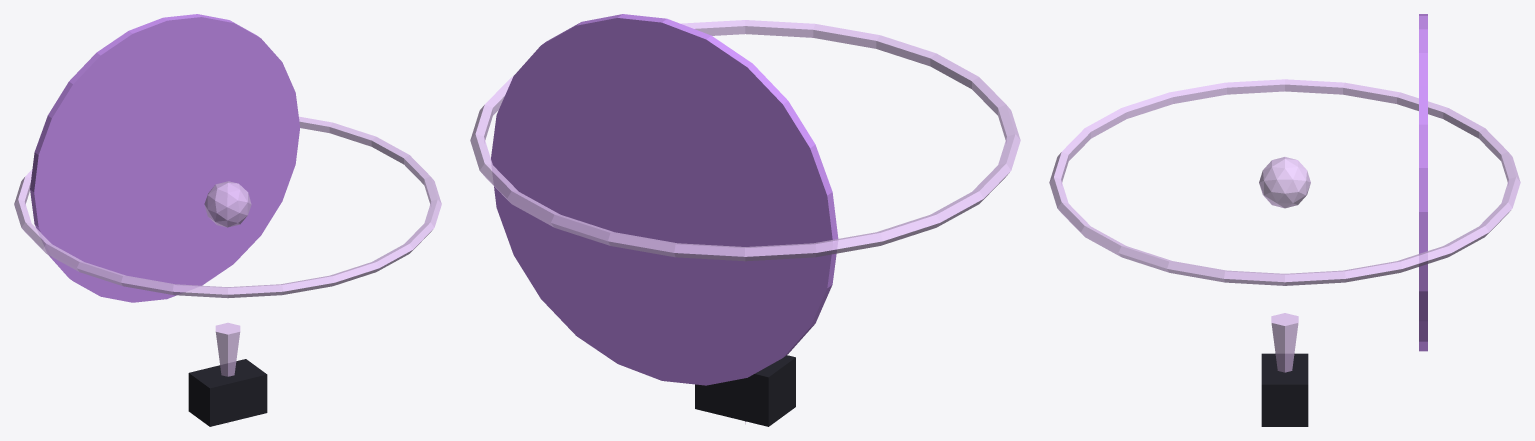
File: 05_combat_start_camera_rig.glb
3 views of the same model, side by side, from view 1: azimuth 30°, elevation 25°; view 2: azimuth 150°, elevation 25°; view 3: azimuth 270°, elevation 25° (orthographic). The views are drawn at different scales.
Parts seen in each view (by area): view 1: combat_start_trigger_disc, camera_orbit_track, camera_proxy, target_focus_point, look_vector; view 2: combat_start_trigger_disc, camera_orbit_track, camera_proxy; view 3: camera_orbit_track, camera_proxy, combat_start_trigger_disc, target_focus_point, look_vector.
Boxes of the visible parts, x1,y1,x2,y2 form: combat_start_trigger_disc: (30,14,300,302); camera_orbit_track: (14,116,441,298); camera_proxy: (188,359,267,426); target_focus_point: (204,181,251,227); look_vector: (215,322,240,423); combat_start_trigger_disc: (491,14,838,385); camera_orbit_track: (470,20,1020,261); camera_proxy: (695,355,795,426); camera_orbit_track: (1049,79,1520,285); camera_proxy: (1261,353,1308,426); combat_start_trigger_disc: (1419,14,1427,351); target_focus_point: (1259,157,1310,208); look_vector: (1271,313,1298,372).
Size of the model in its own units: 1.81 by 1.68 by 1.81.
